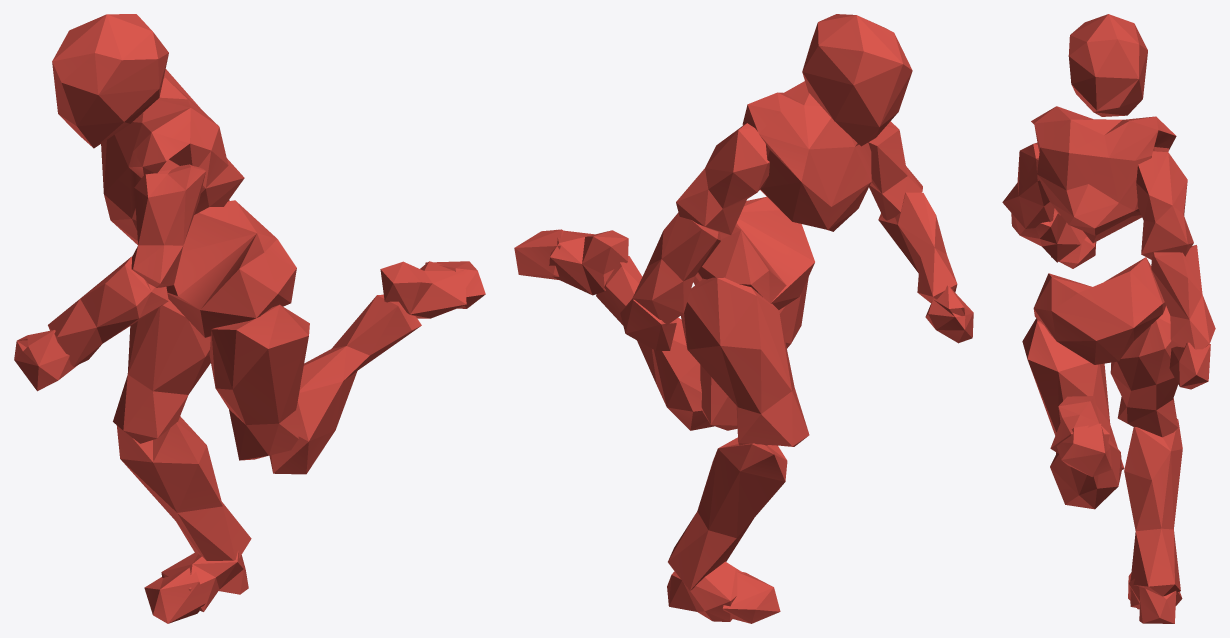
File: 2dancer0196.obj
3 views of the same model, side by side, from view 1: azimuth 30°, elevation 25°; view 2: azimuth 150°, elevation 25°; view 3: azimuth 270°, elevation 25° (orthographic). The views are drawn at different scales.
Visible parts, largest first — view 1: Beta_Surface; view 2: Beta_Surface; view 3: Beta_Surface.
Boxes of the visible parts, x1,y1,x2,y2 form: Beta_Surface: (14,14,485,623); Beta_Surface: (514,14,973,623); Beta_Surface: (1002,14,1215,623).
Bounding box in the file's own units: 1.28 × 1.69 × 0.5937.
